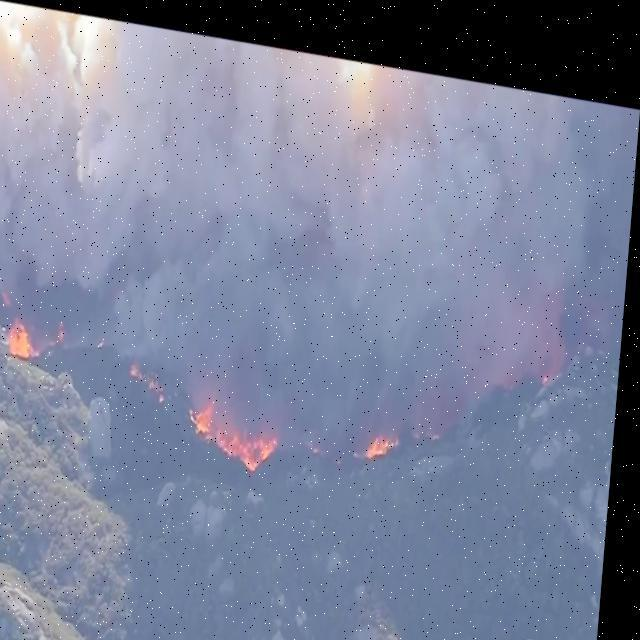Fire: (192, 396, 292, 462), (134, 356, 174, 396), (12, 313, 40, 362), (370, 419, 408, 448)
